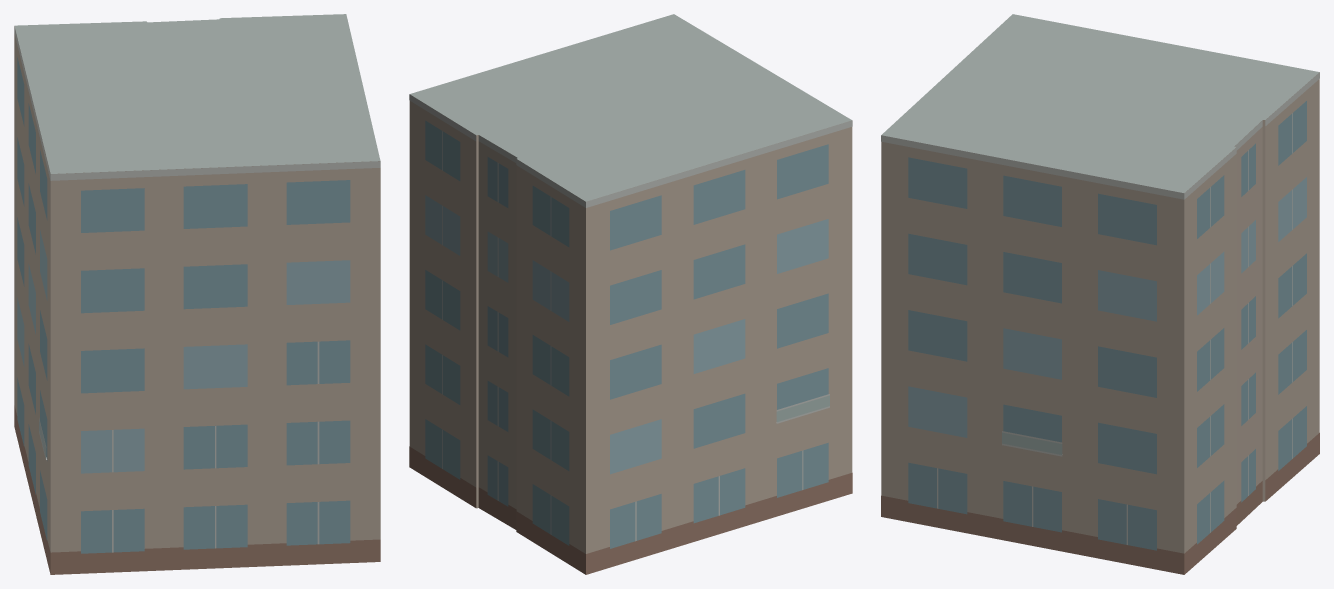
Rendered from survey-upis-32680248.glb.
3 renders of one model, left to right at view 1: azimuth 30°, elevation 25°; view 2: azimuth 150°, elevation 25°; view 3: azimuth 270°, elevation 25°, orthographic. The views are drawn at different scales.
Visible parts, largest first — view 1: survey-upis-32680248.tmp; view 2: survey-upis-32680248.tmp; view 3: survey-upis-32680248.tmp.
Part boxes in pixels (x1,y1,x2,y2): survey-upis-32680248.tmp: [14, 14, 380, 574]; survey-upis-32680248.tmp: [409, 14, 852, 574]; survey-upis-32680248.tmp: [881, 14, 1319, 574].
Size of the model in its own units: 14.51 by 14.4 by 15.01.
